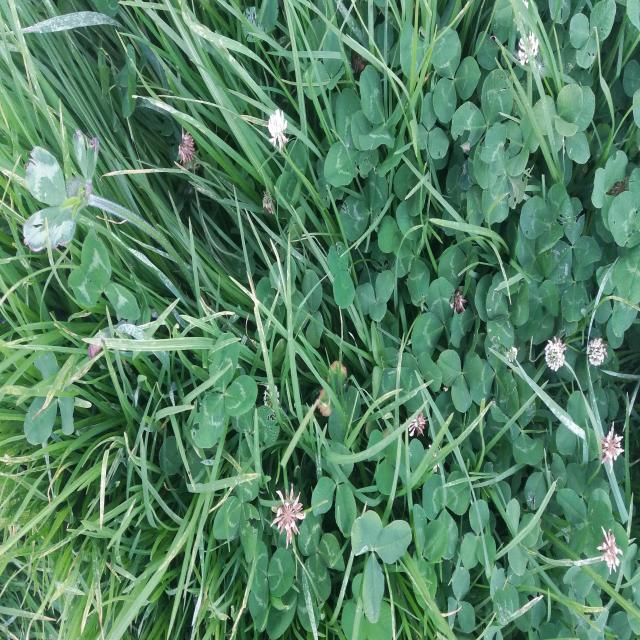Four Leaf Clover: (411, 503, 447, 609), (349, 269, 388, 317), (331, 208, 360, 252), (351, 163, 379, 205)
